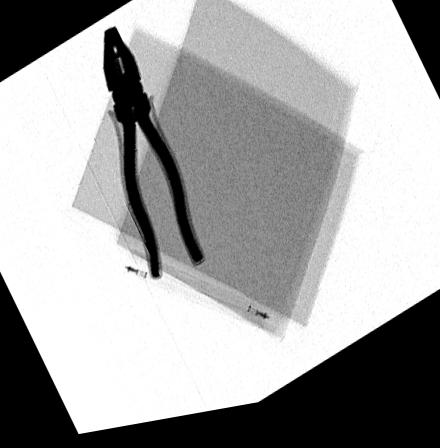Pliers: (102, 28, 206, 287)
